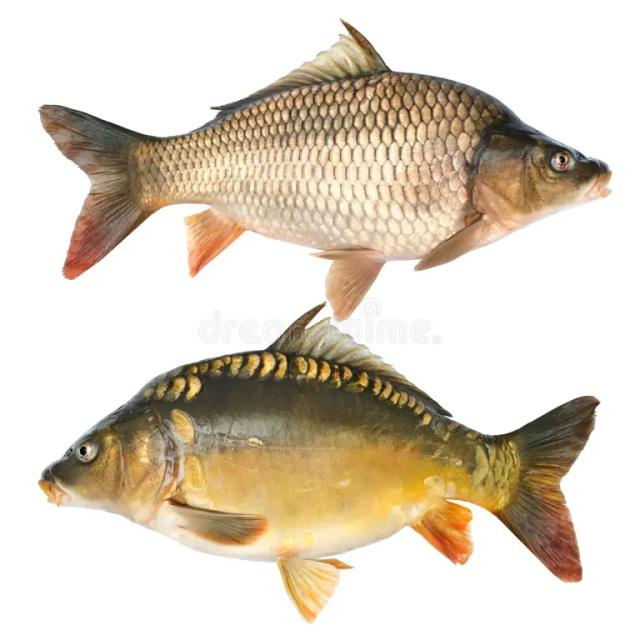Common carp: (41, 303, 604, 623), (39, 17, 617, 321)
